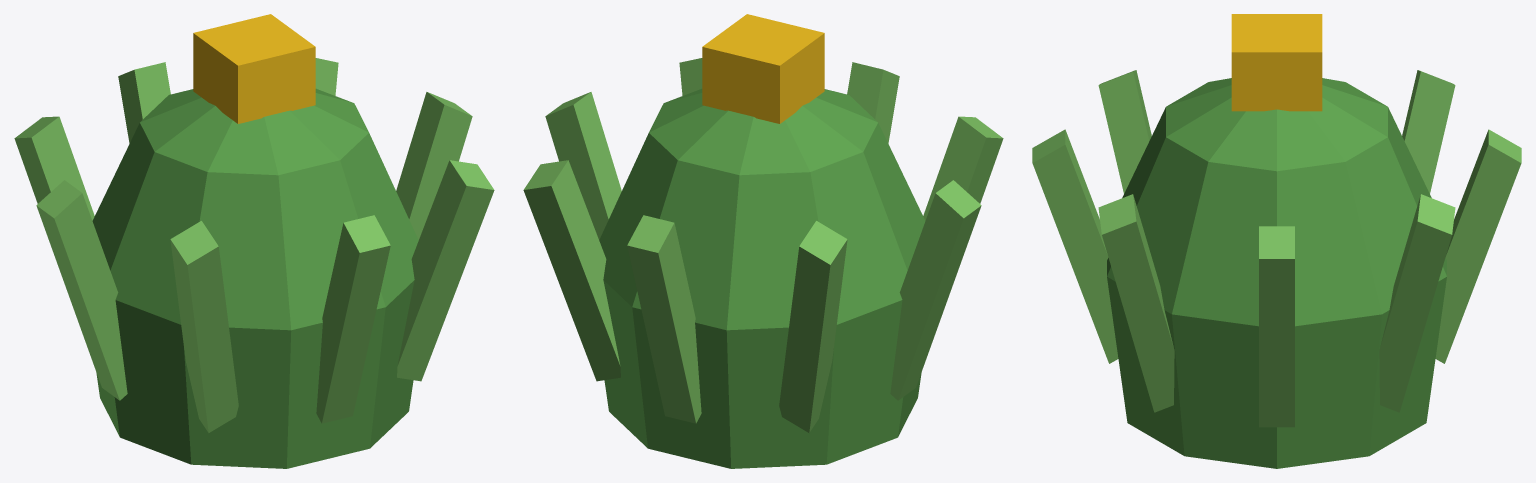
File: env_r5_cactus_round.glb
3 renders of one model, left to right at view 1: azimuth 30°, elevation 25°; view 2: azimuth 150°, elevation 25°; view 3: azimuth 270°, elevation 25°, orthographic.
Parts seen in each view (by area): view 1: env_r5_cactus_round; view 2: env_r5_cactus_round; view 3: env_r5_cactus_round.
Part boxes in pixels (<box>): env_r5_cactus_round: <box>14,14,494,468</box>; env_r5_cactus_round: <box>523,14,1003,468</box>; env_r5_cactus_round: <box>1032,14,1521,468</box>.
Size of the model in its own units: 1.2 by 1 by 1.2.
Materials: 1 (1 with a texture image).
